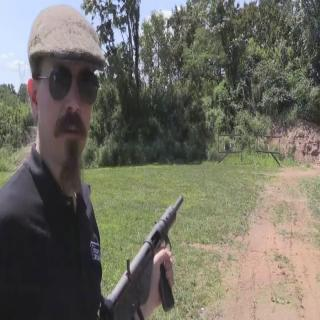gun: (119, 182, 185, 316)
